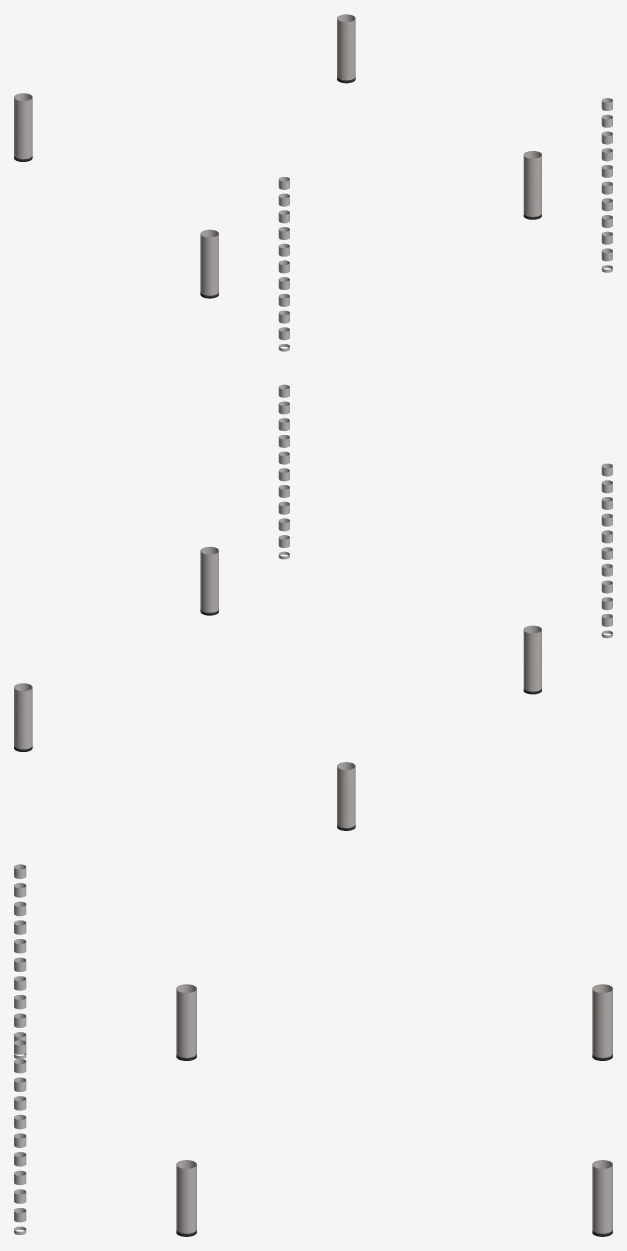
Rendered from env_cscColumn.FBX.
3 views of the same model, one above another, from view 1: azimuth 30°, elevation 25°; view 2: azimuth 150°, elevation 25°; view 3: azimuth 270°, elevation 25° (orthographic). The views are drawn at different scales.
Visible parts, largest first — view 1: env_cscColumn; view 2: env_cscColumn; view 3: env_cscColumn.
Boxes of the visible parts, x1,y1,x2,y2 form: env_cscColumn: [14, 14, 612, 351]; env_cscColumn: [14, 384, 612, 830]; env_cscColumn: [14, 864, 612, 1236].
Bounding box in the file's own units: 16.21 × 7.99 × 22.25.
